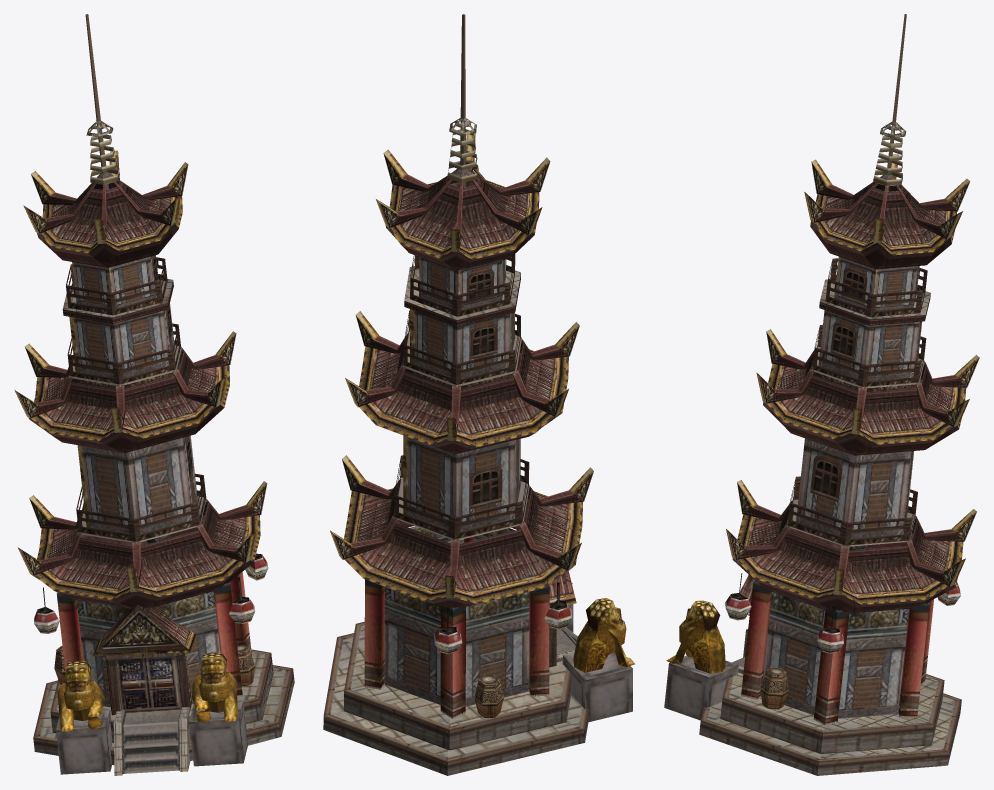
Rendered from china_monastery.fbx.
The picture shows the model from 3 angles, left to right: view 1: azimuth 30°, elevation 25°; view 2: azimuth 150°, elevation 25°; view 3: azimuth 270°, elevation 25°; orthographic projection. The views are drawn at different scales.
Parts seen in each view (by area): view 1: Object01, Object03, Object02; view 2: Object01, Object03, Object02; view 3: Object01, Object03, Object02.
Boxes of the visible parts, bbox=[...] form: Object01: bbox=[14, 14, 294, 775]; Object03: bbox=[29, 171, 260, 608]; Object02: bbox=[34, 553, 268, 686]; Object01: bbox=[323, 14, 634, 775]; Object03: bbox=[344, 168, 582, 608]; Object02: bbox=[434, 582, 571, 717]; Object01: bbox=[664, 14, 979, 775]; Object03: bbox=[732, 172, 966, 613]; Object02: bbox=[725, 573, 960, 709].
Bounding box in the file's own units: 6.73 × 7.02 × 17.31.
